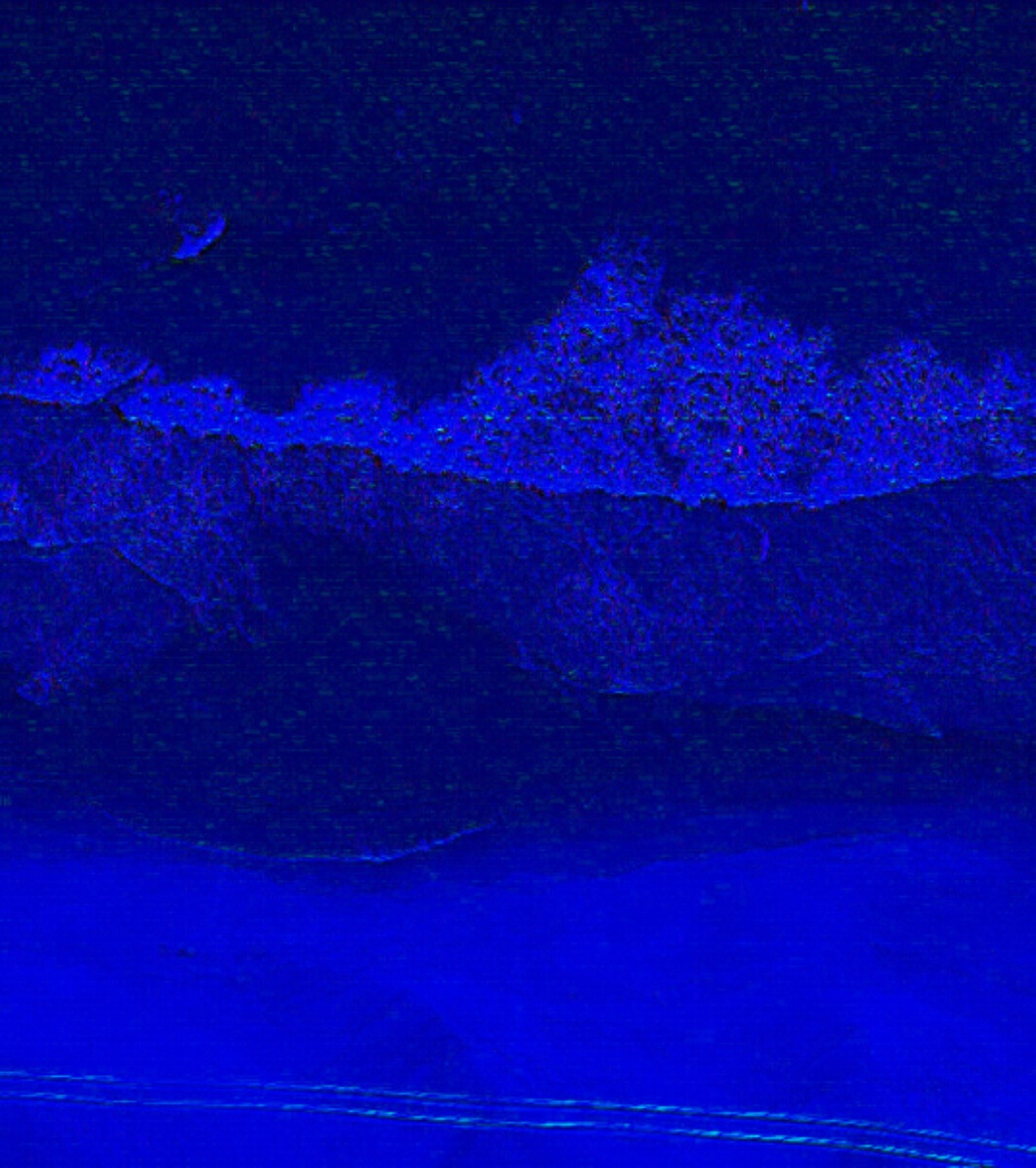rip_current: (128, 299, 433, 617)
